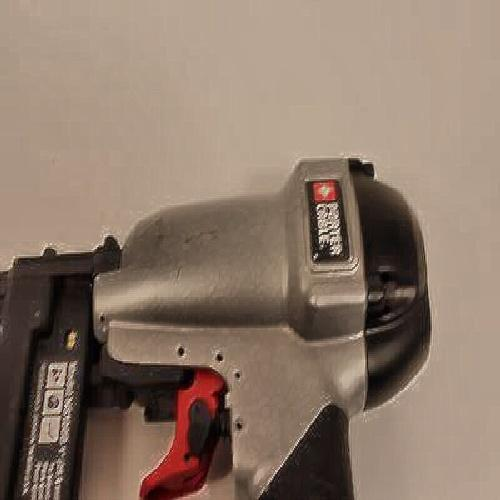stapler: (26, 189, 423, 481)
